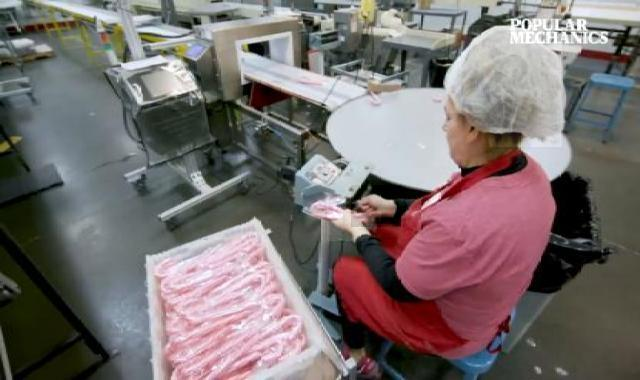gloves: (446, 25, 562, 147)
no_apron: (352, 185, 406, 227), (327, 207, 369, 241)
no_hairnet: (434, 113, 490, 166)
